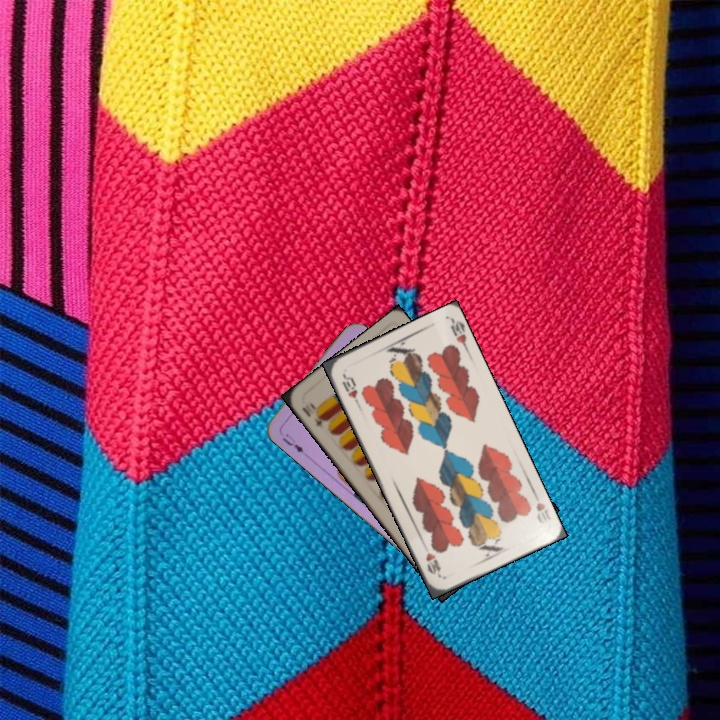E10: (306, 399, 329, 431)
EU: (278, 433, 307, 456)
H10: (338, 370, 362, 408), (529, 488, 553, 526)
